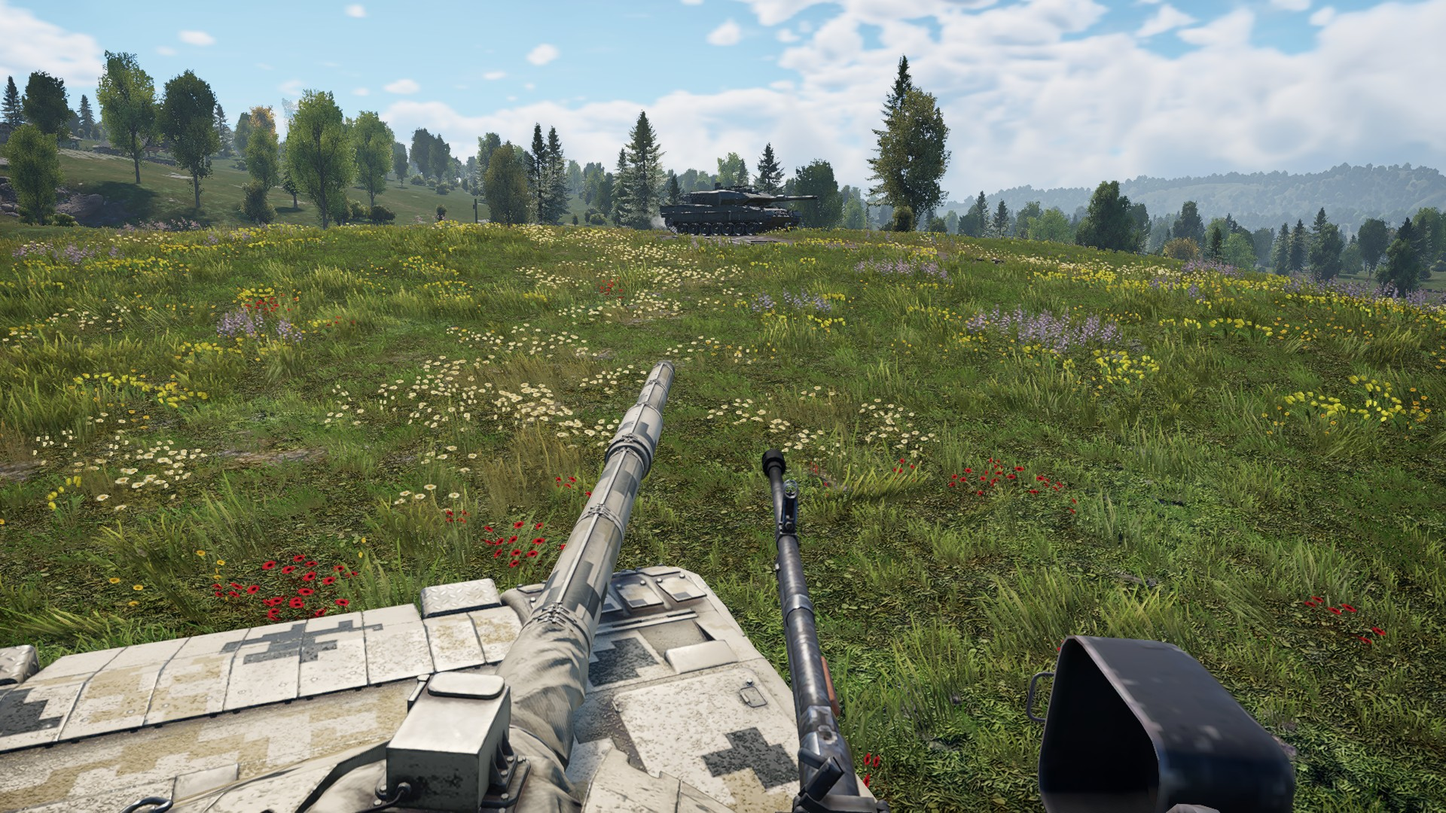leopard2: (659, 182, 818, 237)
